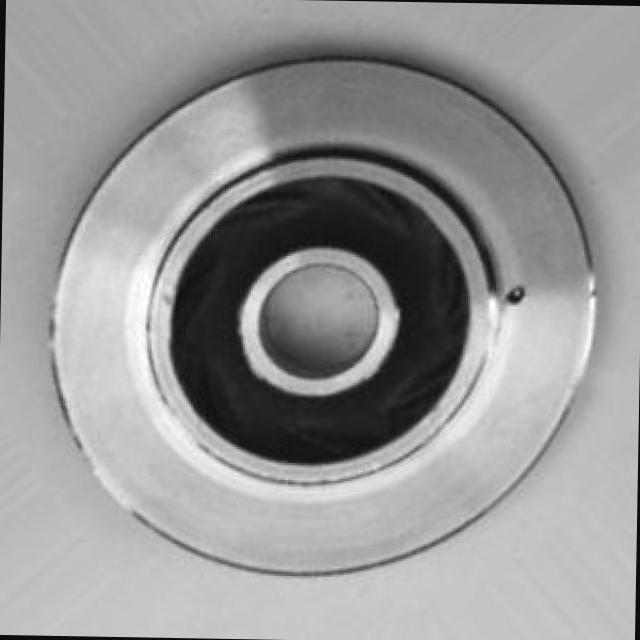Defect: (502, 280, 536, 306)
